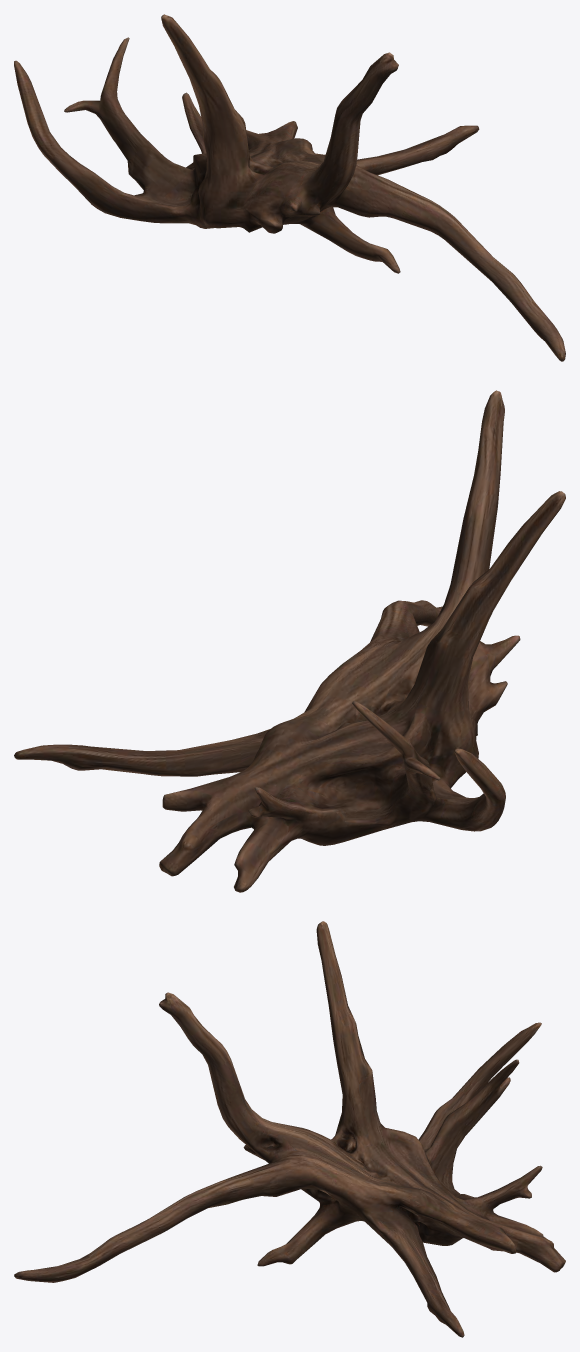
The model's file is driftwood-hero.glb.
3 renders of one model, top to bottom at view 1: azimuth 30°, elevation 25°; view 2: azimuth 150°, elevation 25°; view 3: azimuth 270°, elevation 25°, orthographic. The views are drawn at different scales.
Visible parts, largest first — view 1: Meshy_Mesh1.0; view 2: Meshy_Mesh1.0; view 3: Meshy_Mesh1.0.
Part boxes in pixels (box(x1,y1,x2,y2)): Meshy_Mesh1.0: box(14, 14, 565, 361); Meshy_Mesh1.0: box(14, 390, 565, 892); Meshy_Mesh1.0: box(14, 921, 565, 1337).
Size of the model in its own units: 1.57 by 1 by 1.91.
1 material, 1 textured.
